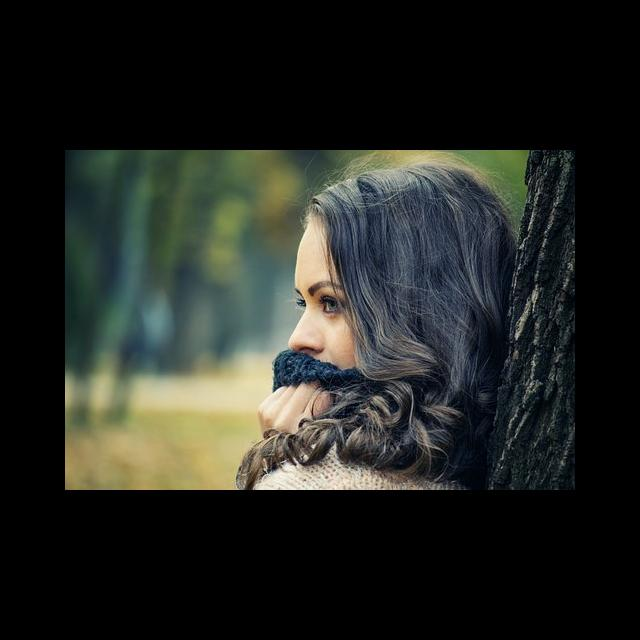female: (239, 187, 513, 411)
